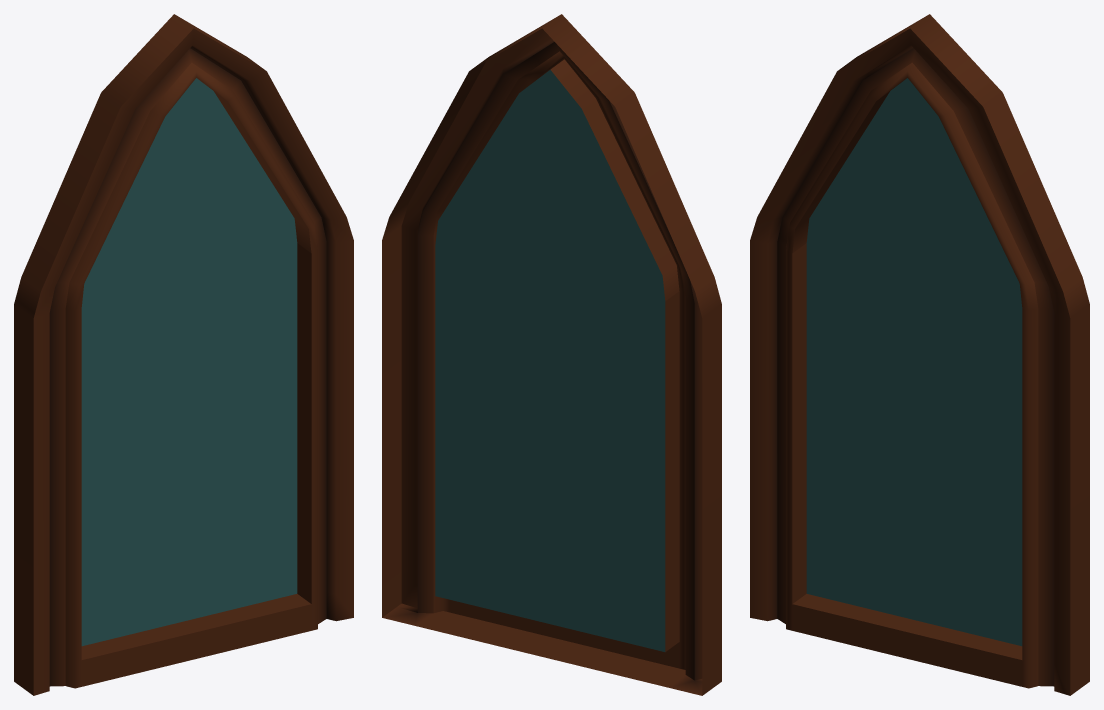
Rendered from Window_Banquet_Geo.fbx.
3 views of the same model, side by side, from view 1: azimuth 30°, elevation 25°; view 2: azimuth 150°, elevation 25°; view 3: azimuth 330°, elevation 25° (orthographic).
Visible parts, largest first — view 1: Window; view 2: Window; view 3: Window.
Part boxes in pixels (<box>): Window: <box>14,14,353,695</box>; Window: <box>382,14,721,695</box>; Window: <box>750,14,1089,695</box>.
Size of the model in its own units: 587 by 1100 by 70.97.
